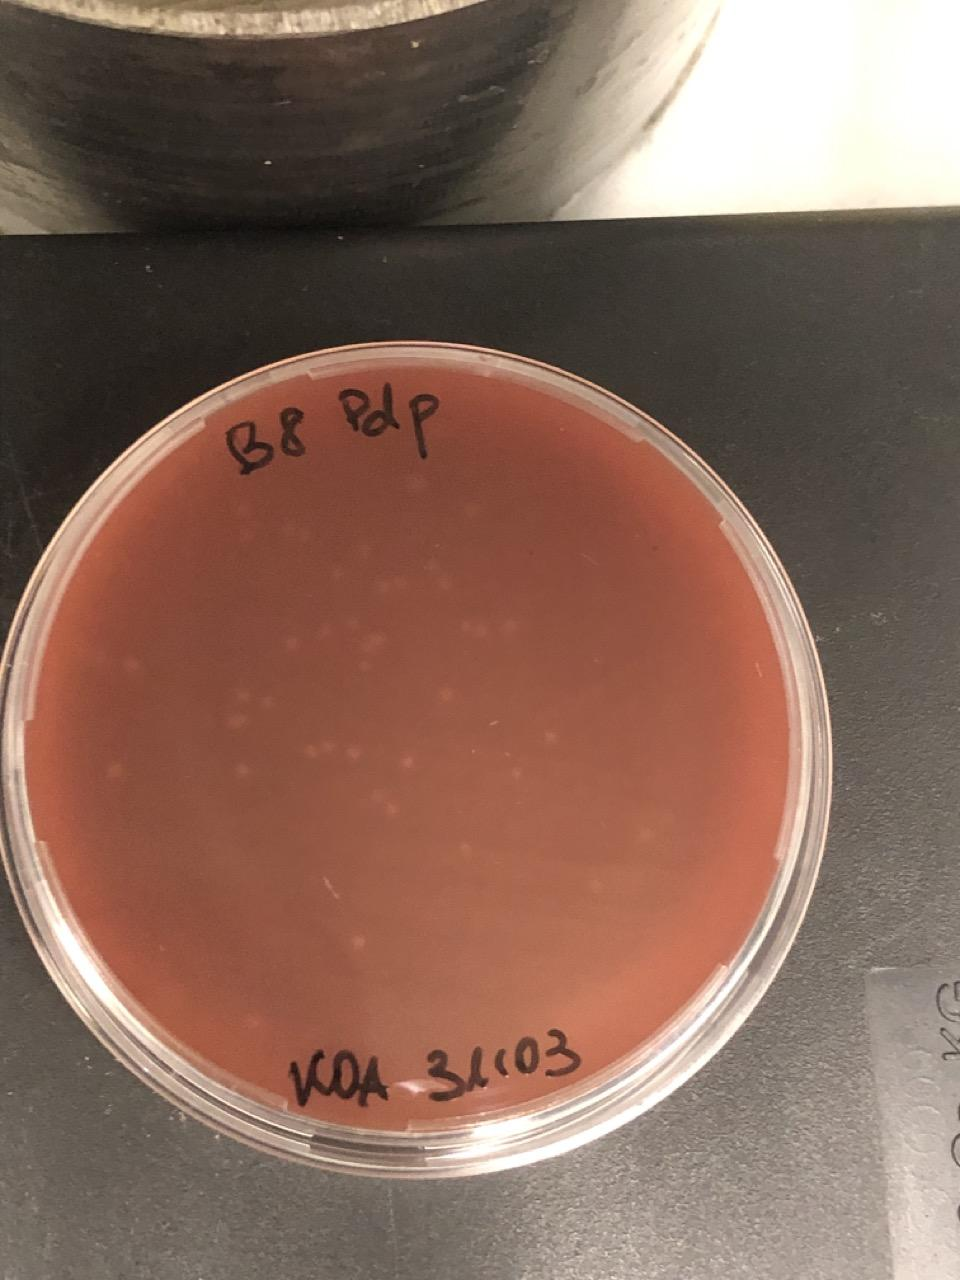pdpiscicida: (358, 630, 392, 656), (457, 616, 491, 641), (303, 739, 339, 761), (376, 573, 407, 594), (344, 615, 362, 634), (584, 878, 602, 896), (458, 840, 476, 858), (658, 811, 677, 829), (383, 802, 401, 820), (369, 787, 387, 805), (345, 745, 363, 763), (538, 730, 557, 748), (258, 696, 276, 715), (438, 683, 456, 701), (122, 653, 140, 671), (503, 616, 521, 634), (274, 522, 292, 540), (243, 1013, 261, 1030), (634, 827, 652, 845), (508, 766, 526, 783), (105, 762, 123, 779), (356, 659, 373, 677), (315, 624, 333, 641), (437, 577, 455, 594), (424, 558, 441, 577), (462, 502, 480, 519), (408, 475, 426, 493), (231, 711, 247, 730), (399, 753, 416, 770), (281, 634, 298, 651), (329, 562, 346, 580), (237, 502, 254, 519), (350, 933, 366, 951), (234, 764, 250, 782), (234, 687, 250, 706), (353, 544, 369, 562), (235, 526, 251, 544)
